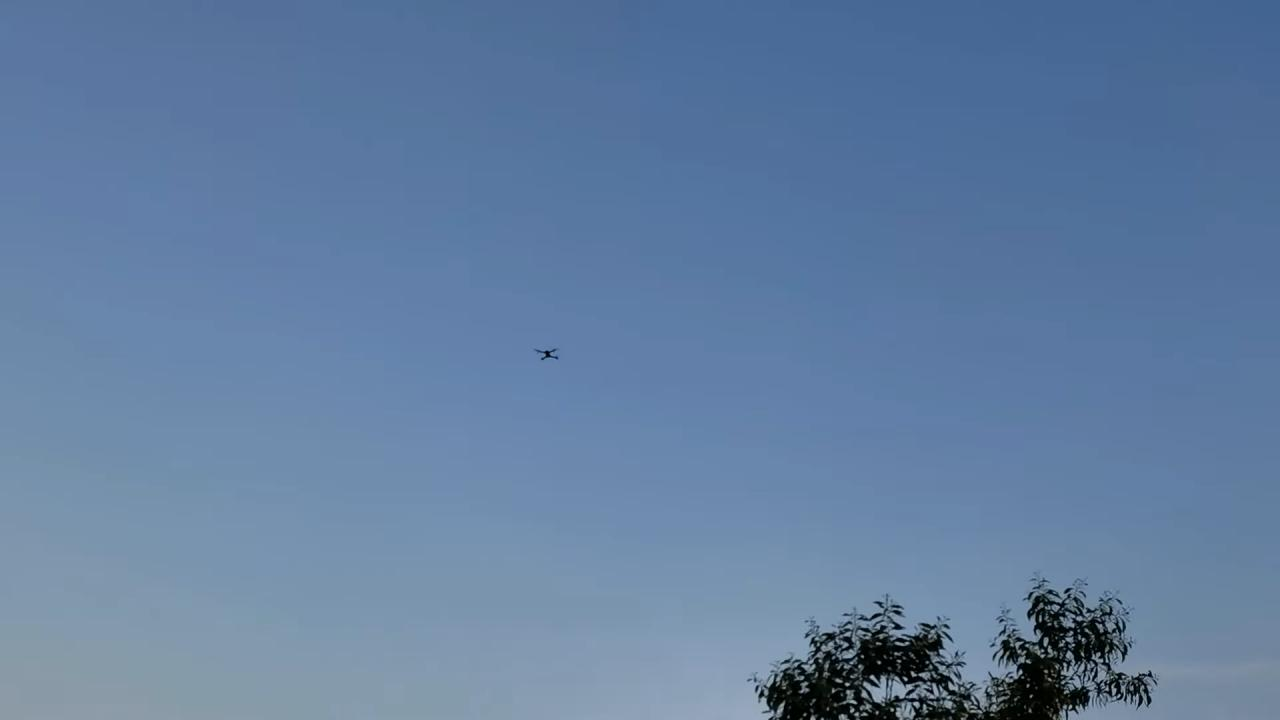Drone: (527, 338, 568, 368)
